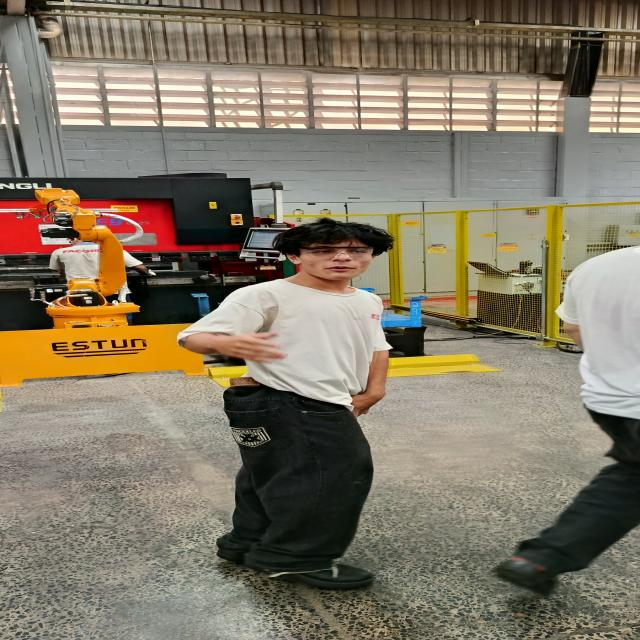oculos-epi: (300, 247, 374, 259)
